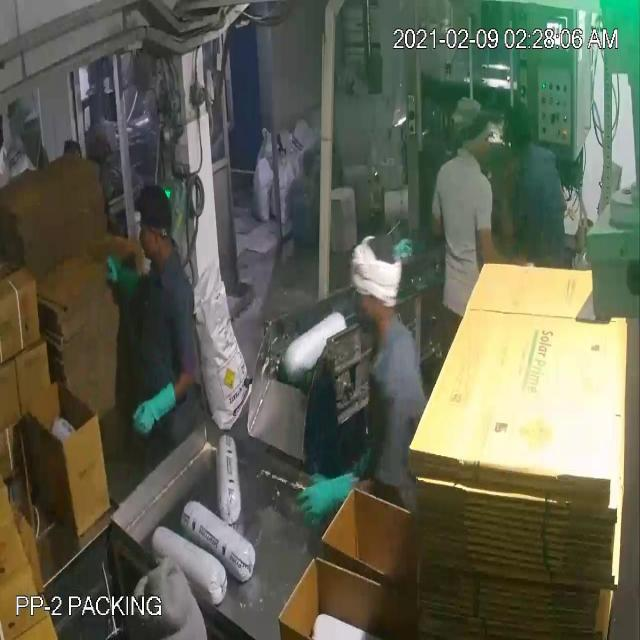Gloves: (54, 64, 332, 490)
